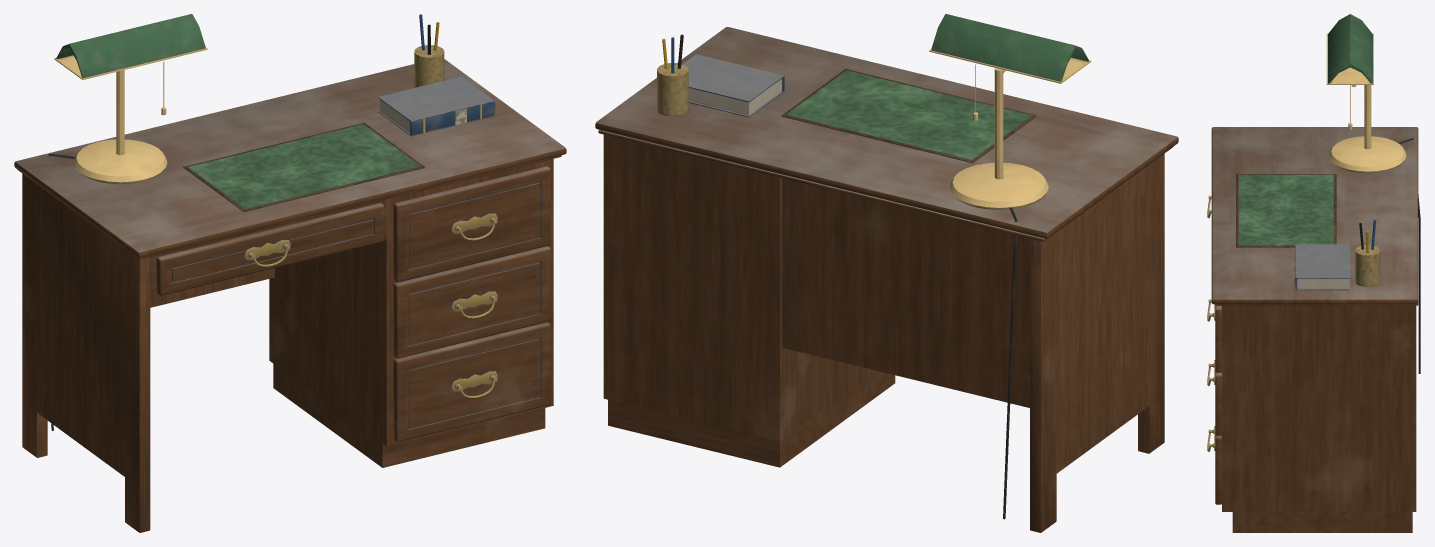
The model's file is escrivaninha.glb.
3 views of the same model, side by side, from view 1: azimuth 30°, elevation 25°; view 2: azimuth 150°, elevation 25°; view 3: azimuth 270°, elevation 25° (orthographic). The views are drawn at different scales.
Visible parts, largest first — view 1: escrivaninha, gaveta_1, gaveta_3, gaveta_2, gaveta_centro; view 2: escrivaninha; view 3: escrivaninha, gaveta_1, gaveta_3, gaveta_2.
Part boxes in pixels (x1,y1,x2,y2): escrivaninha: (14, 14, 566, 532); gaveta_1: (393, 322, 550, 441); gaveta_3: (393, 166, 550, 282); gaveta_2: (393, 246, 550, 358); gaveta_centro: (156, 203, 384, 295); escrivaninha: (595, 14, 1178, 532); escrivaninha: (1211, 14, 1420, 532); gaveta_1: (1207, 426, 1221, 504); gaveta_3: (1207, 299, 1221, 372); gaveta_2: (1207, 360, 1221, 435).
Size of the model in its own units: 1.18 by 1.13 by 0.6159.
2 materials, 2 textured.
